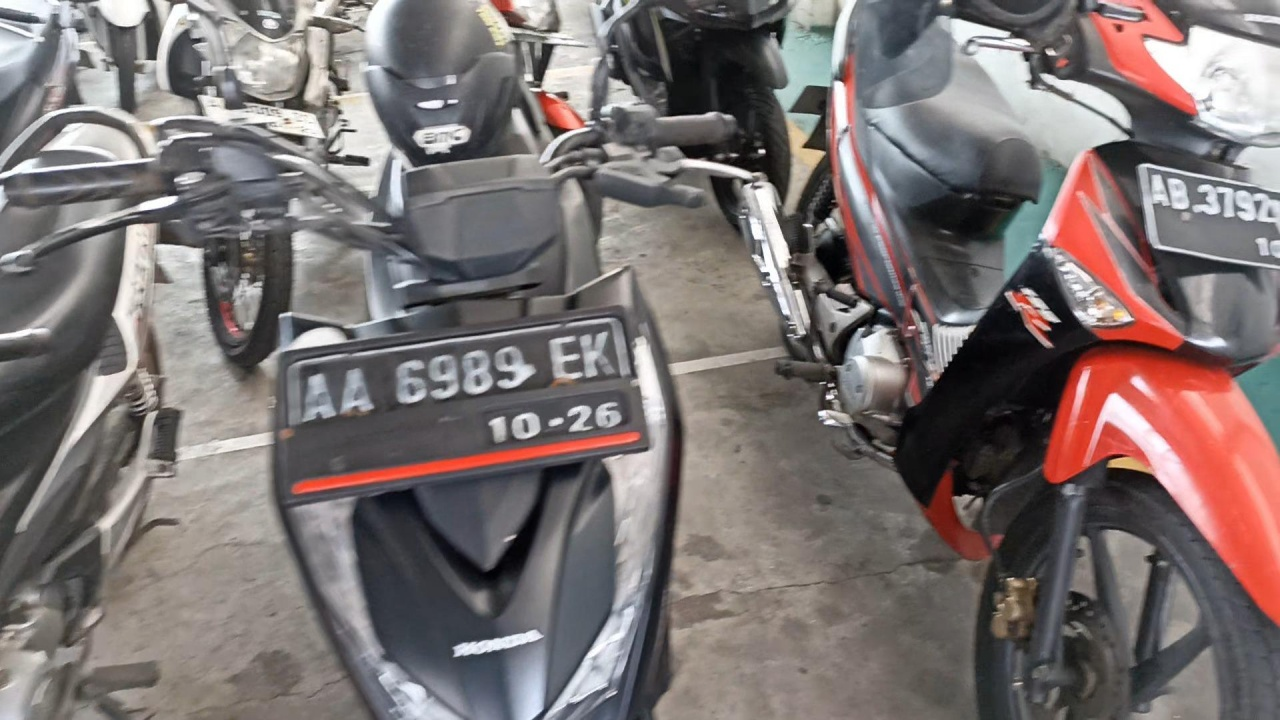plate: (286, 312, 644, 494)
